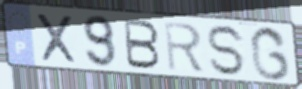9: (80, 13, 119, 70)
B: (122, 17, 162, 71)
G: (248, 25, 292, 82)
R: (162, 20, 207, 74)
S: (205, 23, 248, 78)
X: (33, 11, 80, 66)
